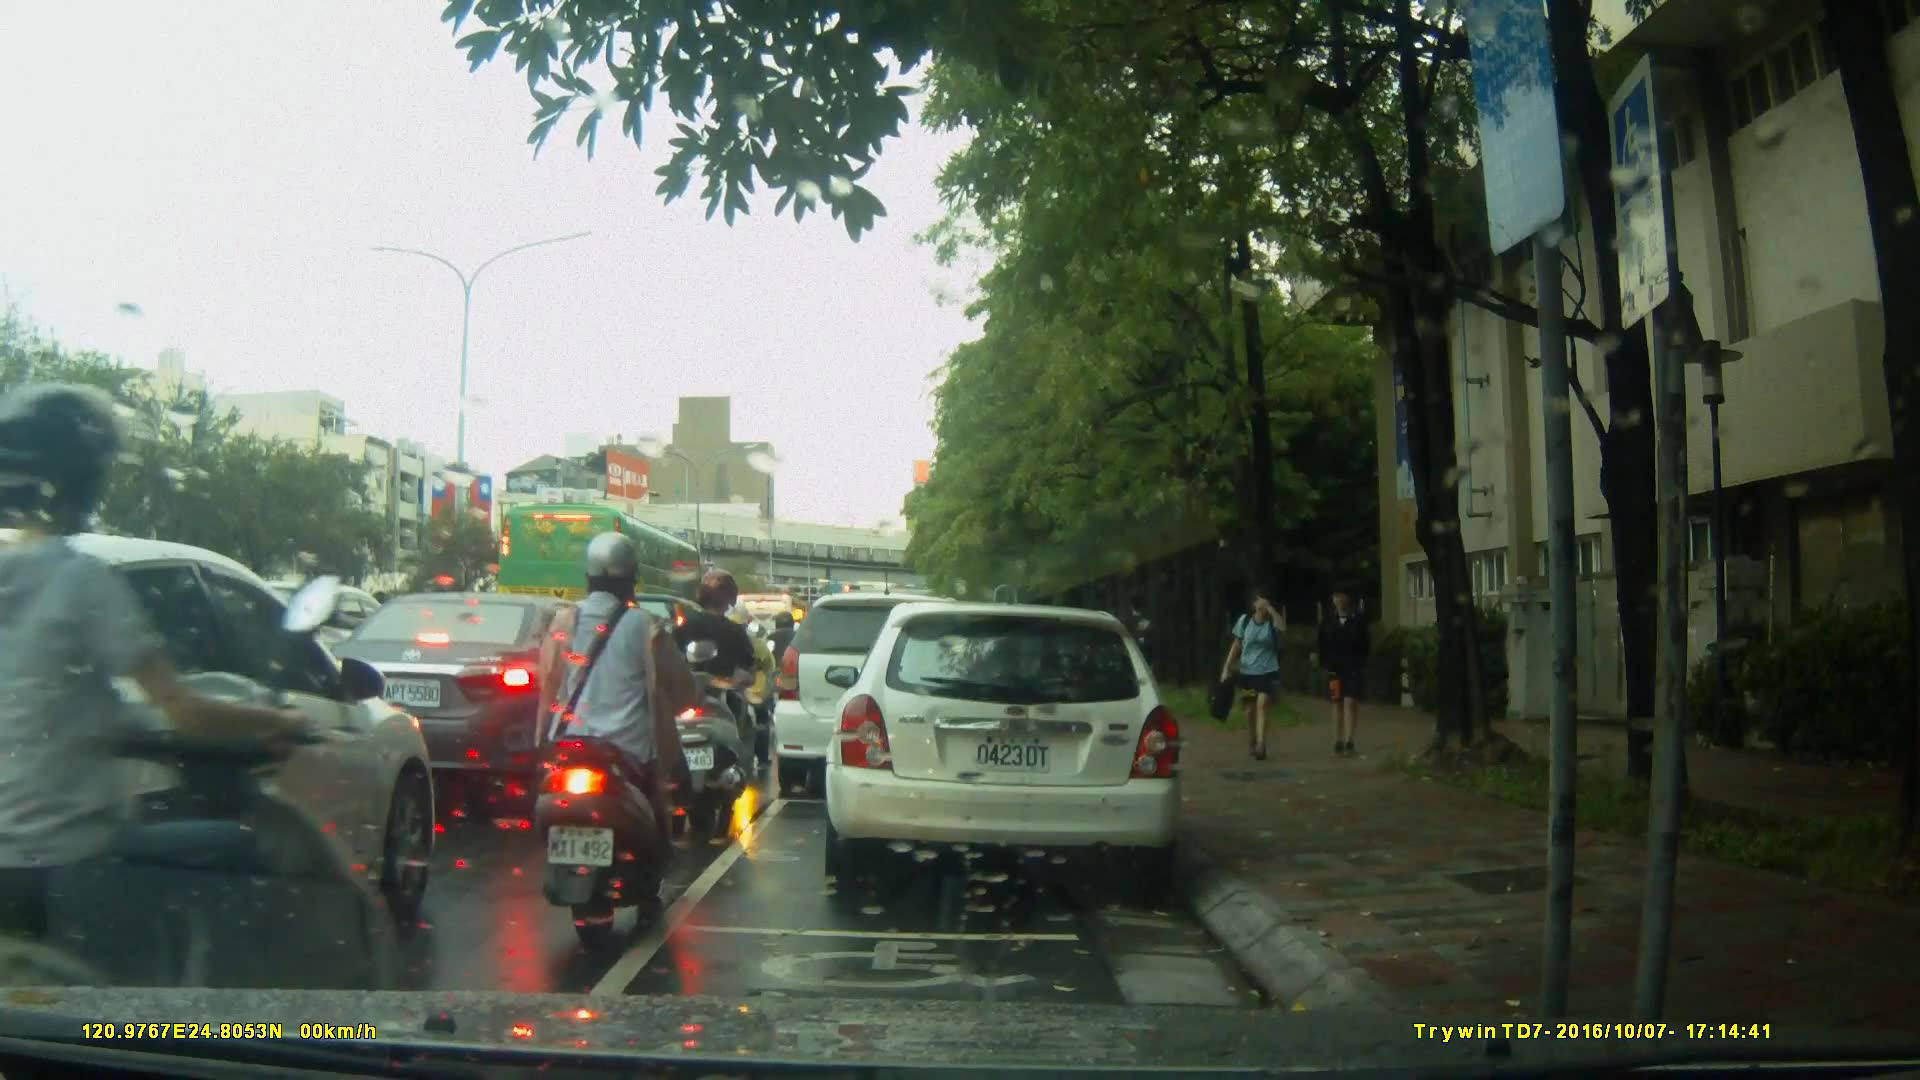pedestrian: (1210, 580, 1318, 764), (1313, 573, 1386, 764), (1123, 596, 1162, 721)
rider: (1, 398, 406, 1080), (530, 533, 688, 944), (653, 570, 753, 824), (708, 600, 772, 770), (759, 610, 813, 746)
vehicle: (1, 528, 446, 987), (831, 592, 1196, 897), (313, 590, 638, 806), (770, 591, 999, 802), (495, 500, 707, 637)
